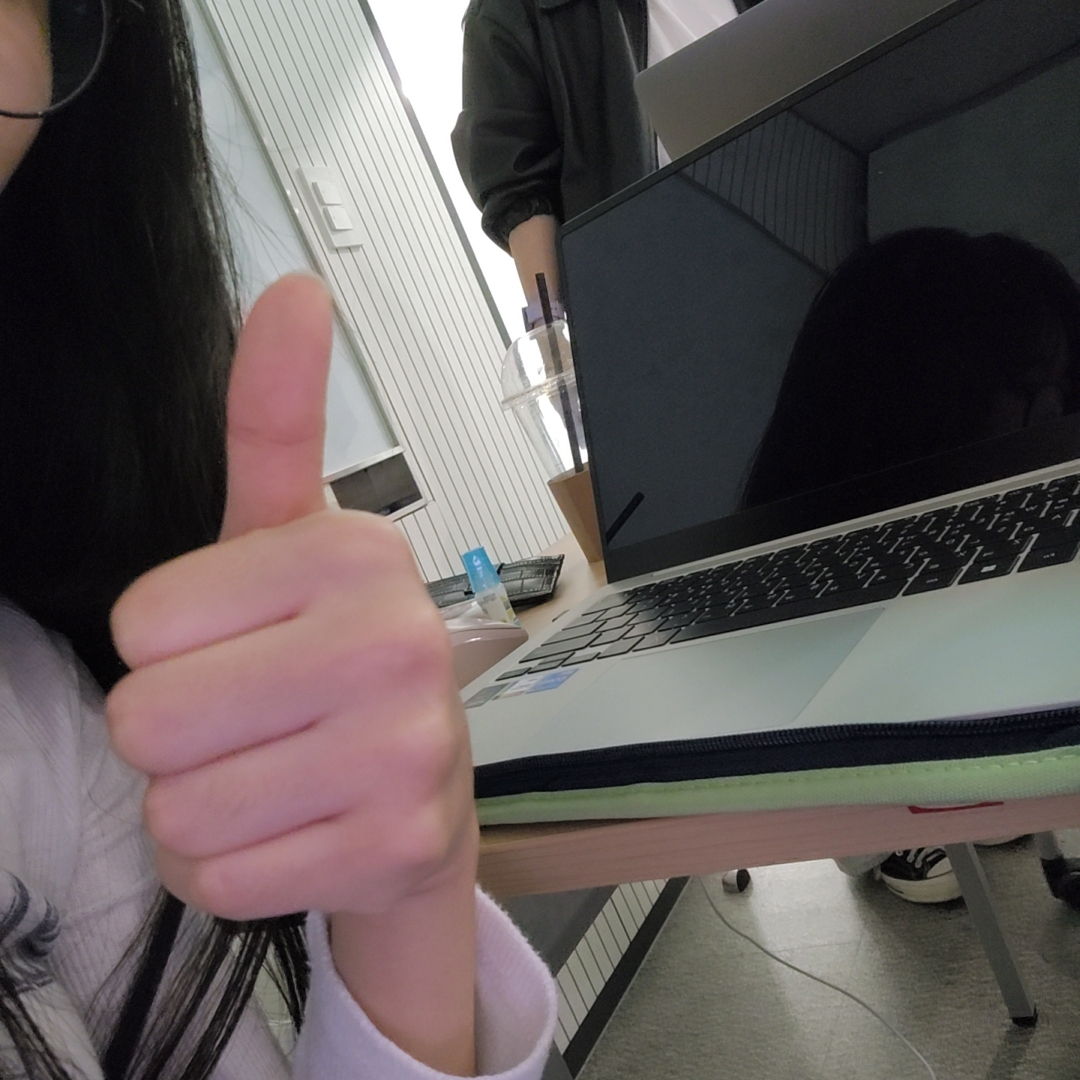best: (104, 273, 458, 916)
